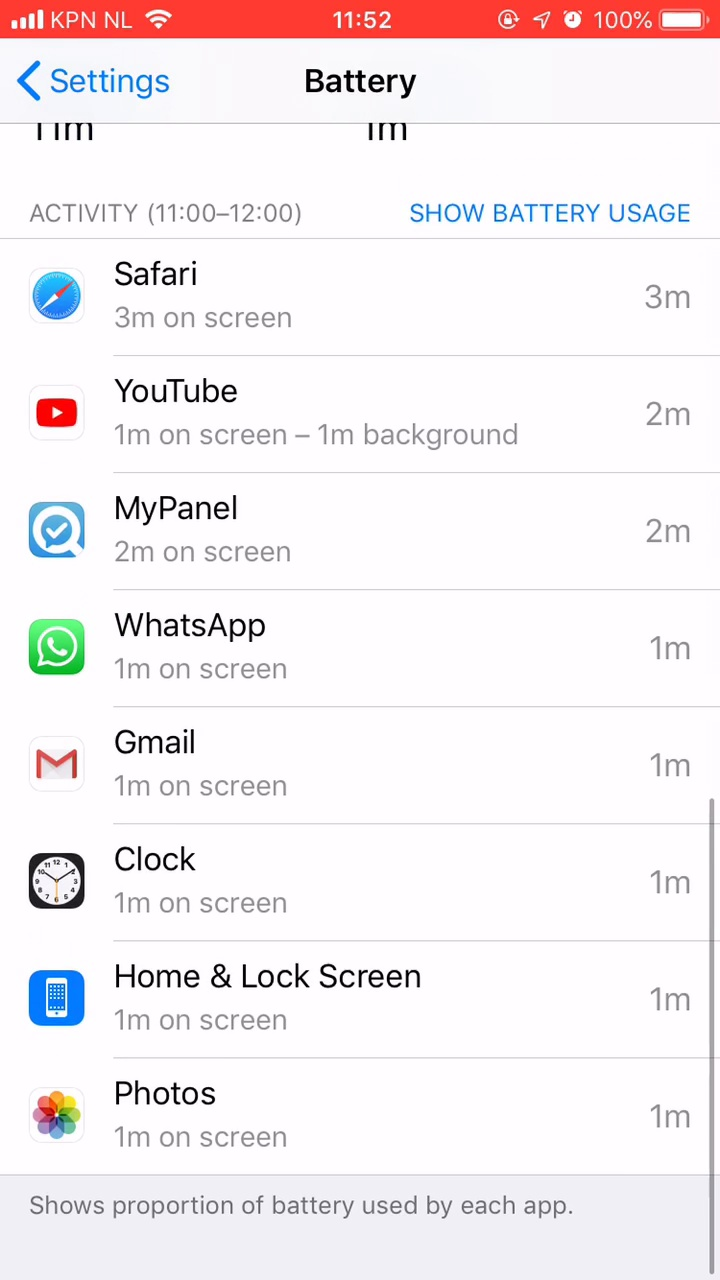activity: (23, 185, 337, 226)
app: (30, 254, 703, 341), (25, 366, 698, 453), (21, 480, 694, 567), (21, 602, 694, 689), (27, 719, 700, 806), (28, 838, 701, 925), (24, 959, 697, 1046), (27, 1068, 700, 1155)
